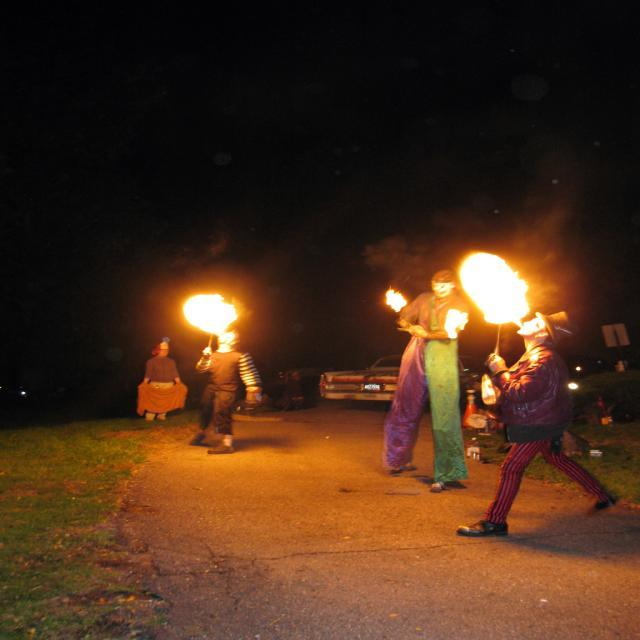Fire: (464, 255, 530, 318), (188, 292, 235, 334)
